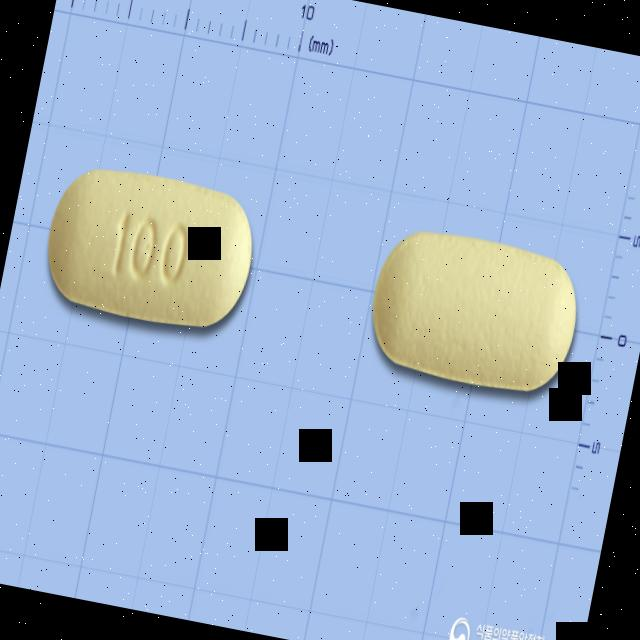Noxafil Gastro-Resistant Tab: (36, 156, 266, 342)
